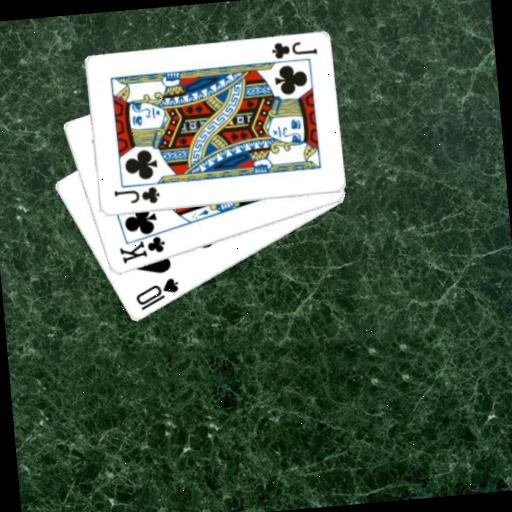10S: (131, 275, 182, 314)
JC: (110, 184, 162, 210), (268, 36, 319, 62)
KC: (115, 227, 170, 266)
